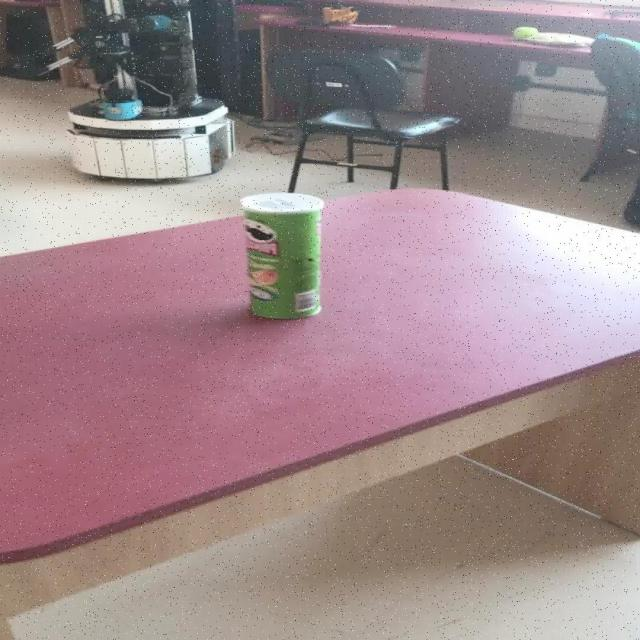Pringles: (242, 192, 326, 320), (514, 25, 540, 38)
